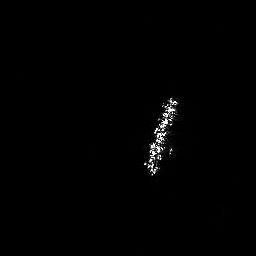ship: (142, 96, 180, 177)
